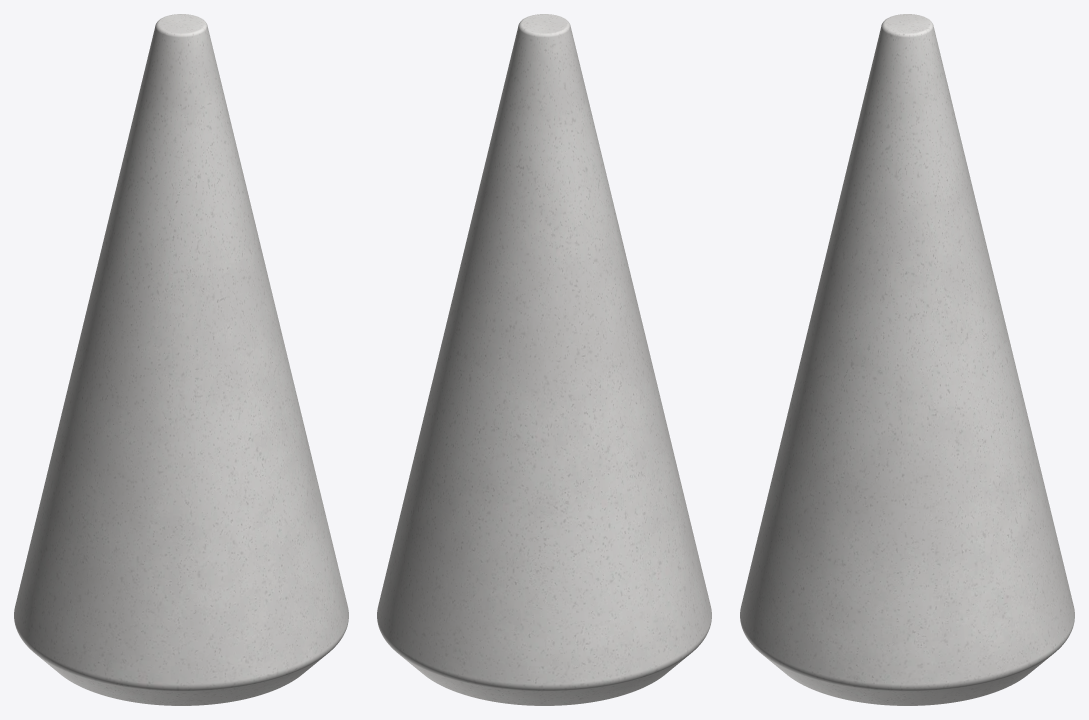
The model's file is pawn-white-hd.glb.
3 renders of one model, left to right at view 1: azimuth 30°, elevation 25°; view 2: azimuth 150°, elevation 25°; view 3: azimuth 270°, elevation 25°, orthographic.
Parts seen in each view (by area): view 1: 01_pesec_bila; view 2: 01_pesec_bila; view 3: 01_pesec_bila.
Part boxes in pixels (<box>): 01_pesec_bila: <box>14,14,348,705</box>; 01_pesec_bila: <box>377,14,711,705</box>; 01_pesec_bila: <box>740,14,1074,705</box>.
Bounding box in the file's own units: 0.6406 × 1.32 × 0.6406.
1 material, 1 textured.
